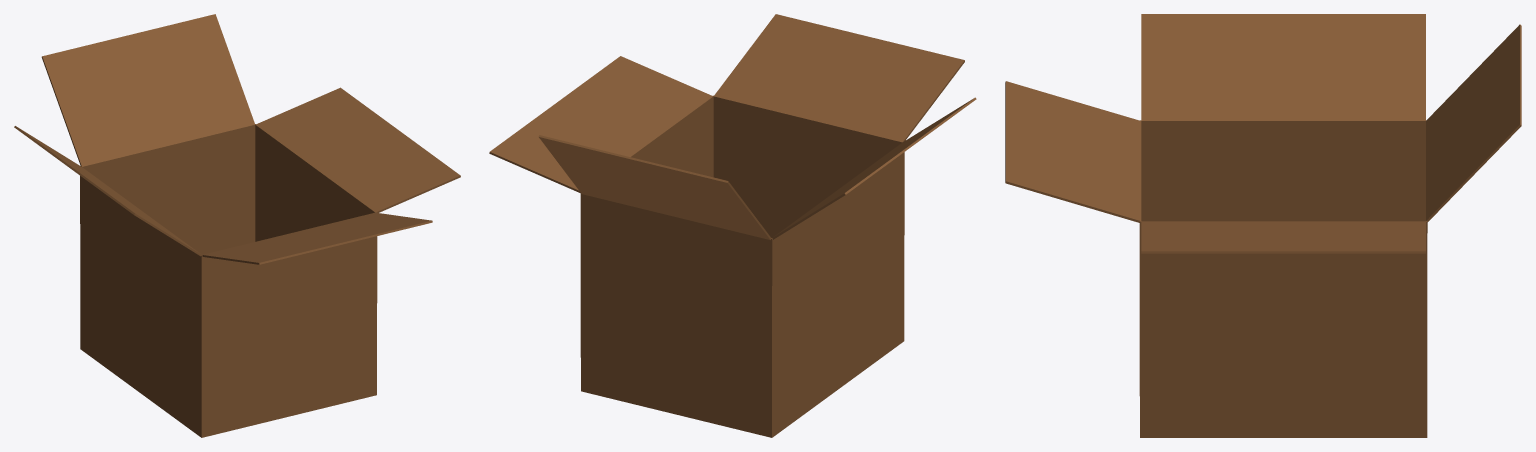
File: A_NJ_CardboxOpened_001.fbx
The picture shows the model from 3 angles, left to right: view 1: azimuth 30°, elevation 25°; view 2: azimuth 150°, elevation 25°; view 3: azimuth 270°, elevation 25°; orthographic projection. The views are drawn at different scales.
Visible parts, largest first — view 1: CarboxOpened; view 2: CarboxOpened; view 3: CarboxOpened.
Boxes of the visible parts, x1,y1,x2,y2 form: CarboxOpened: (14, 14, 460, 437); CarboxOpened: (489, 14, 976, 437); CarboxOpened: (1005, 14, 1521, 437).
Size of the model in its own units: 189 by 146 by 218.
